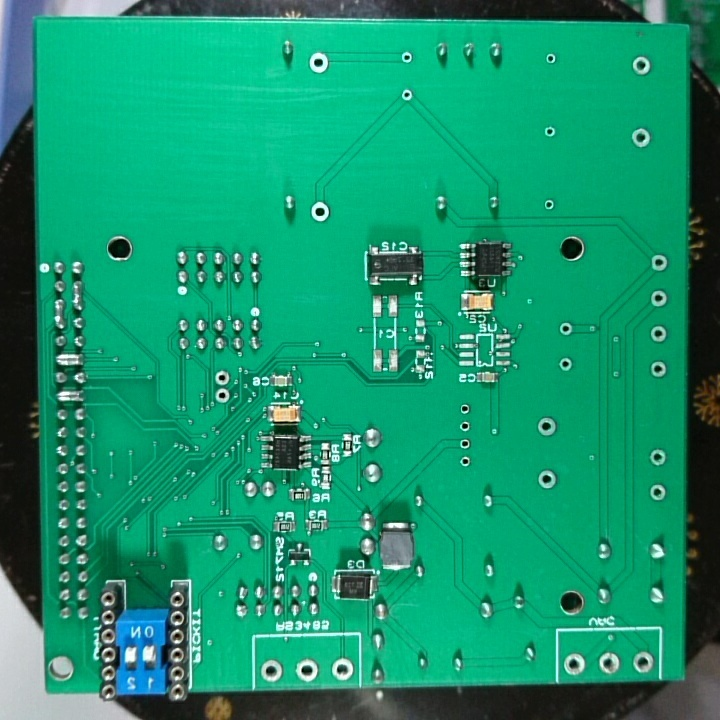F: (258, 656, 285, 686), (329, 656, 357, 684), (293, 657, 321, 685), (305, 49, 332, 78), (561, 649, 588, 678), (596, 649, 623, 676), (628, 123, 654, 150), (628, 53, 654, 78), (630, 650, 656, 675), (308, 198, 332, 225), (536, 466, 559, 493), (535, 414, 558, 440), (648, 251, 672, 275), (648, 323, 671, 345), (648, 288, 670, 310), (648, 447, 669, 469), (648, 482, 669, 503), (648, 359, 670, 379), (555, 354, 576, 374), (397, 48, 417, 68), (212, 368, 231, 388), (212, 386, 232, 405), (398, 85, 417, 104), (557, 320, 575, 340), (456, 452, 474, 471), (456, 435, 474, 453), (540, 195, 557, 214), (543, 50, 559, 67), (541, 123, 558, 139), (457, 418, 474, 434), (458, 400, 473, 418)
P: (68, 278, 88, 313), (51, 350, 87, 369), (51, 296, 68, 332), (53, 388, 87, 405)
